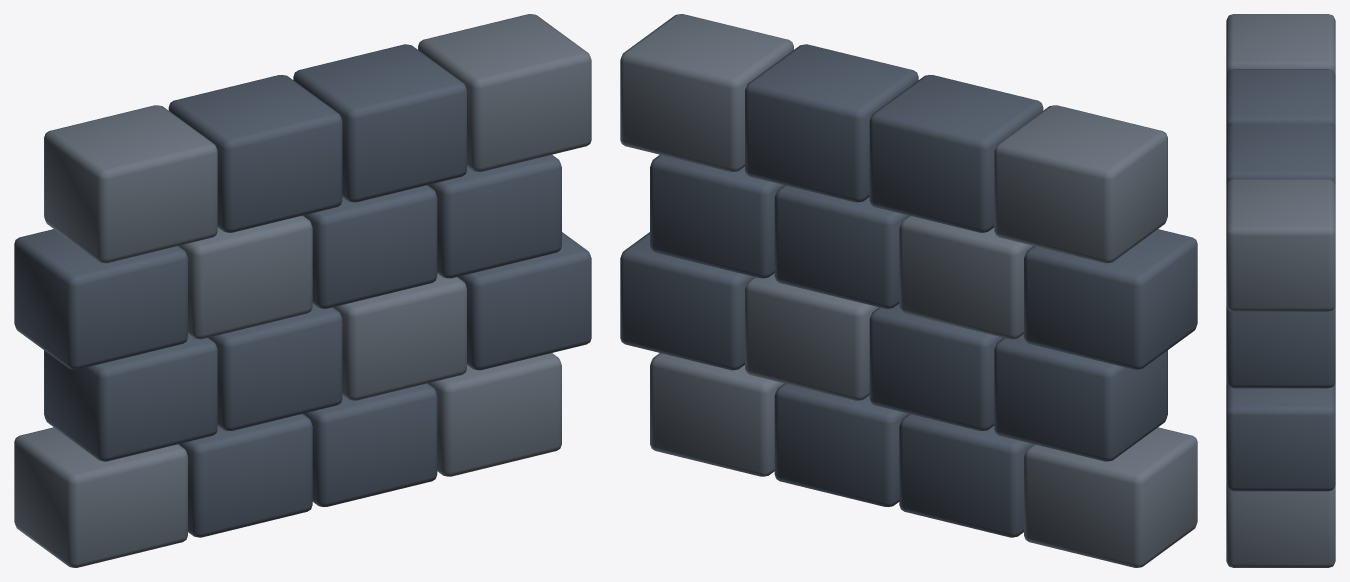
File: prop-2-refined-v15.fbx
3 views of the same model, side by side, from view 1: azimuth 30°, elevation 25°; view 2: azimuth 150°, elevation 25°; view 3: azimuth 270°, elevation 25° (orthographic). The views are drawn at different scales.
Visible parts, largest first — view 1: MasonryBlock.012, MasonryBlock.008, MasonryBlock, MasonryBlock.013, MasonryBlock.014, MasonryBlock.015, MasonryBlock.004, MasonryBlock.007, MasonryBlock.002, MasonryBlock.010, MasonryBlock.005, MasonryBlock.009 (+4 smaller); view 2: MasonryBlock.012, MasonryBlock.008, MasonryBlock, MasonryBlock.013, MasonryBlock.014, MasonryBlock.015, MasonryBlock.004, MasonryBlock.007, MasonryBlock.002, MasonryBlock.010, MasonryBlock.005, MasonryBlock.009 (+4 smaller); view 3: MasonryBlock.015, MasonryBlock.007, MasonryBlock.011, MasonryBlock.003, MasonryBlock.013, MasonryBlock.014, MasonryBlock.012.
Boxes of the visible parts, <box> form: MasonryBlock.012: <box>44,105,217,263</box>; MasonryBlock.008: <box>14,229,187,369</box>; MasonryBlock: <box>14,427,187,567</box>; MasonryBlock.013: <box>168,75,342,232</box>; MasonryBlock.014: <box>293,44,466,202</box>; MasonryBlock.015: <box>418,14,591,171</box>; MasonryBlock.004: <box>44,334,217,461</box>; MasonryBlock.007: <box>458,232,591,370</box>; MasonryBlock.002: <box>303,383,437,506</box>; MasonryBlock.010: <box>303,185,437,308</box>; MasonryBlock.005: <box>208,304,342,430</box>; MasonryBlock.009: <box>179,215,312,339</box>; MasonryBlock.012: <box>994,105,1167,263</box>; MasonryBlock.008: <box>1024,229,1197,369</box>; MasonryBlock: <box>1024,427,1197,567</box>; MasonryBlock.013: <box>869,75,1043,232</box>; MasonryBlock.014: <box>745,44,918,202</box>; MasonryBlock.015: <box>620,14,793,171</box>; MasonryBlock.004: <box>994,334,1167,461</box>; MasonryBlock.007: <box>620,232,753,370</box>; MasonryBlock.002: <box>774,383,908,506</box>; MasonryBlock.010: <box>774,185,908,308</box>; MasonryBlock.005: <box>869,304,1003,430</box>; MasonryBlock.009: <box>899,215,1032,339</box>; MasonryBlock.015: <box>1226,179,1335,311</box>; MasonryBlock.007: <box>1226,382,1335,491</box>; MasonryBlock.011: <box>1226,305,1335,388</box>; MasonryBlock.003: <box>1226,485,1335,567</box>; MasonryBlock.013: <box>1226,69,1335,129</box>; MasonryBlock.014: <box>1226,124,1335,185</box>; MasonryBlock.012: <box>1226,14,1335,74</box>.
Size of the model in its own units: 210 by 150 by 42.
